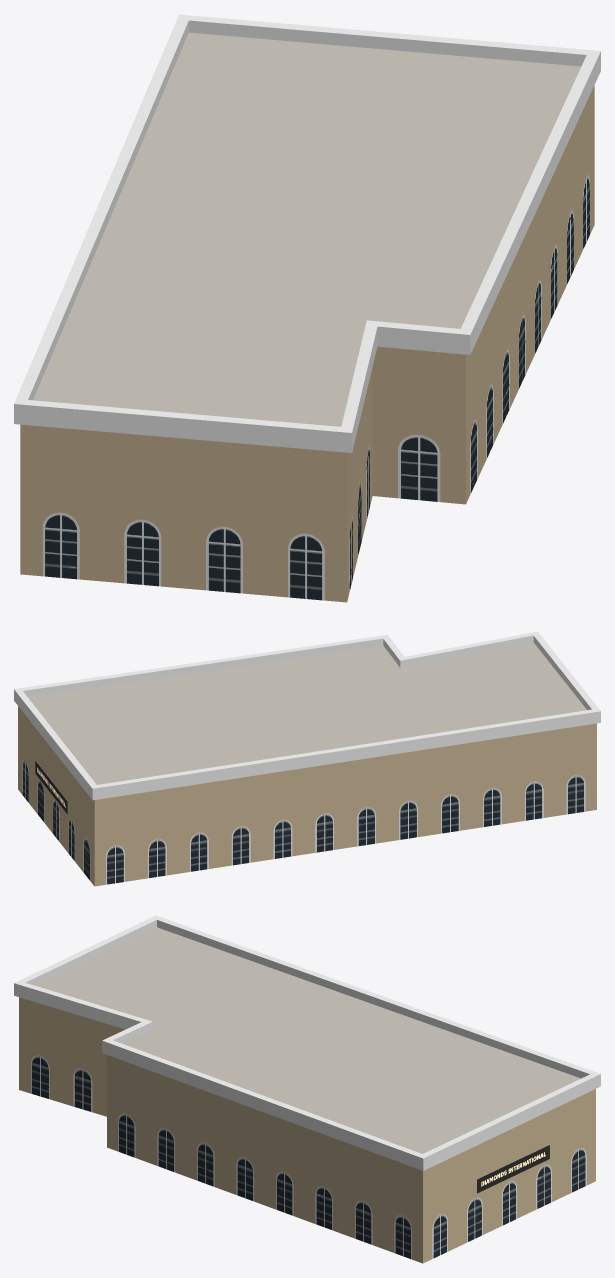
Rendered from diamondsintl.glb.
3 renders of one model, top to bottom at view 1: azimuth 30°, elevation 25°; view 2: azimuth 150°, elevation 25°; view 3: azimuth 270°, elevation 25°, orthographic. The views are drawn at different scales.
Visible parts, largest first — view 1: diamondsintl_lod0; view 2: diamondsintl_lod0; view 3: diamondsintl_lod0.
Boxes of the visible parts, x1,y1,x2,y2 form: diamondsintl_lod0: [14, 14, 600, 602]; diamondsintl_lod0: [14, 631, 600, 886]; diamondsintl_lod0: [14, 915, 600, 1263].
Size of what is drawn, in the model's own units: 41.9 by 8.6 by 42.73.
5 materials, 2 textured.
